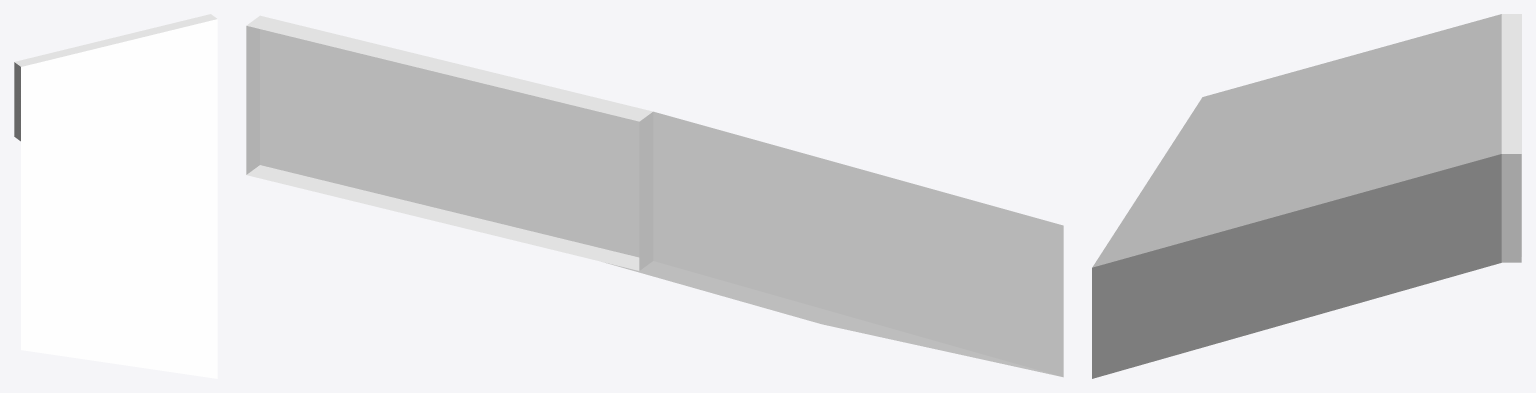
File: set_add_effect_l_01_02.fbx
3 renders of one model, left to right at view 1: azimuth 30°, elevation 25°; view 2: azimuth 150°, elevation 25°; view 3: azimuth 270°, elevation 25°, orthographic. The views are drawn at different scales.
Parts seen in each view (by area): view 1: set_add_effect_l_01_02; view 2: set_add_effect_l_01_02; view 3: set_add_effect_l_01_02.
Boxes of the visible parts, left/top/right/bottom form: set_add_effect_l_01_02: left=14, top=14, right=217, bottom=378; set_add_effect_l_01_02: left=246, top=15, right=1063, bottom=377; set_add_effect_l_01_02: left=1092, top=14, right=1521, bottom=378.
Size of the model in its own units: 132 by 94.29 by 113.
